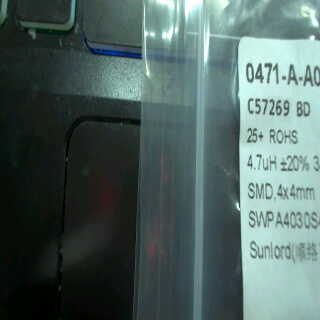4.7uH: (245, 150, 278, 171)
